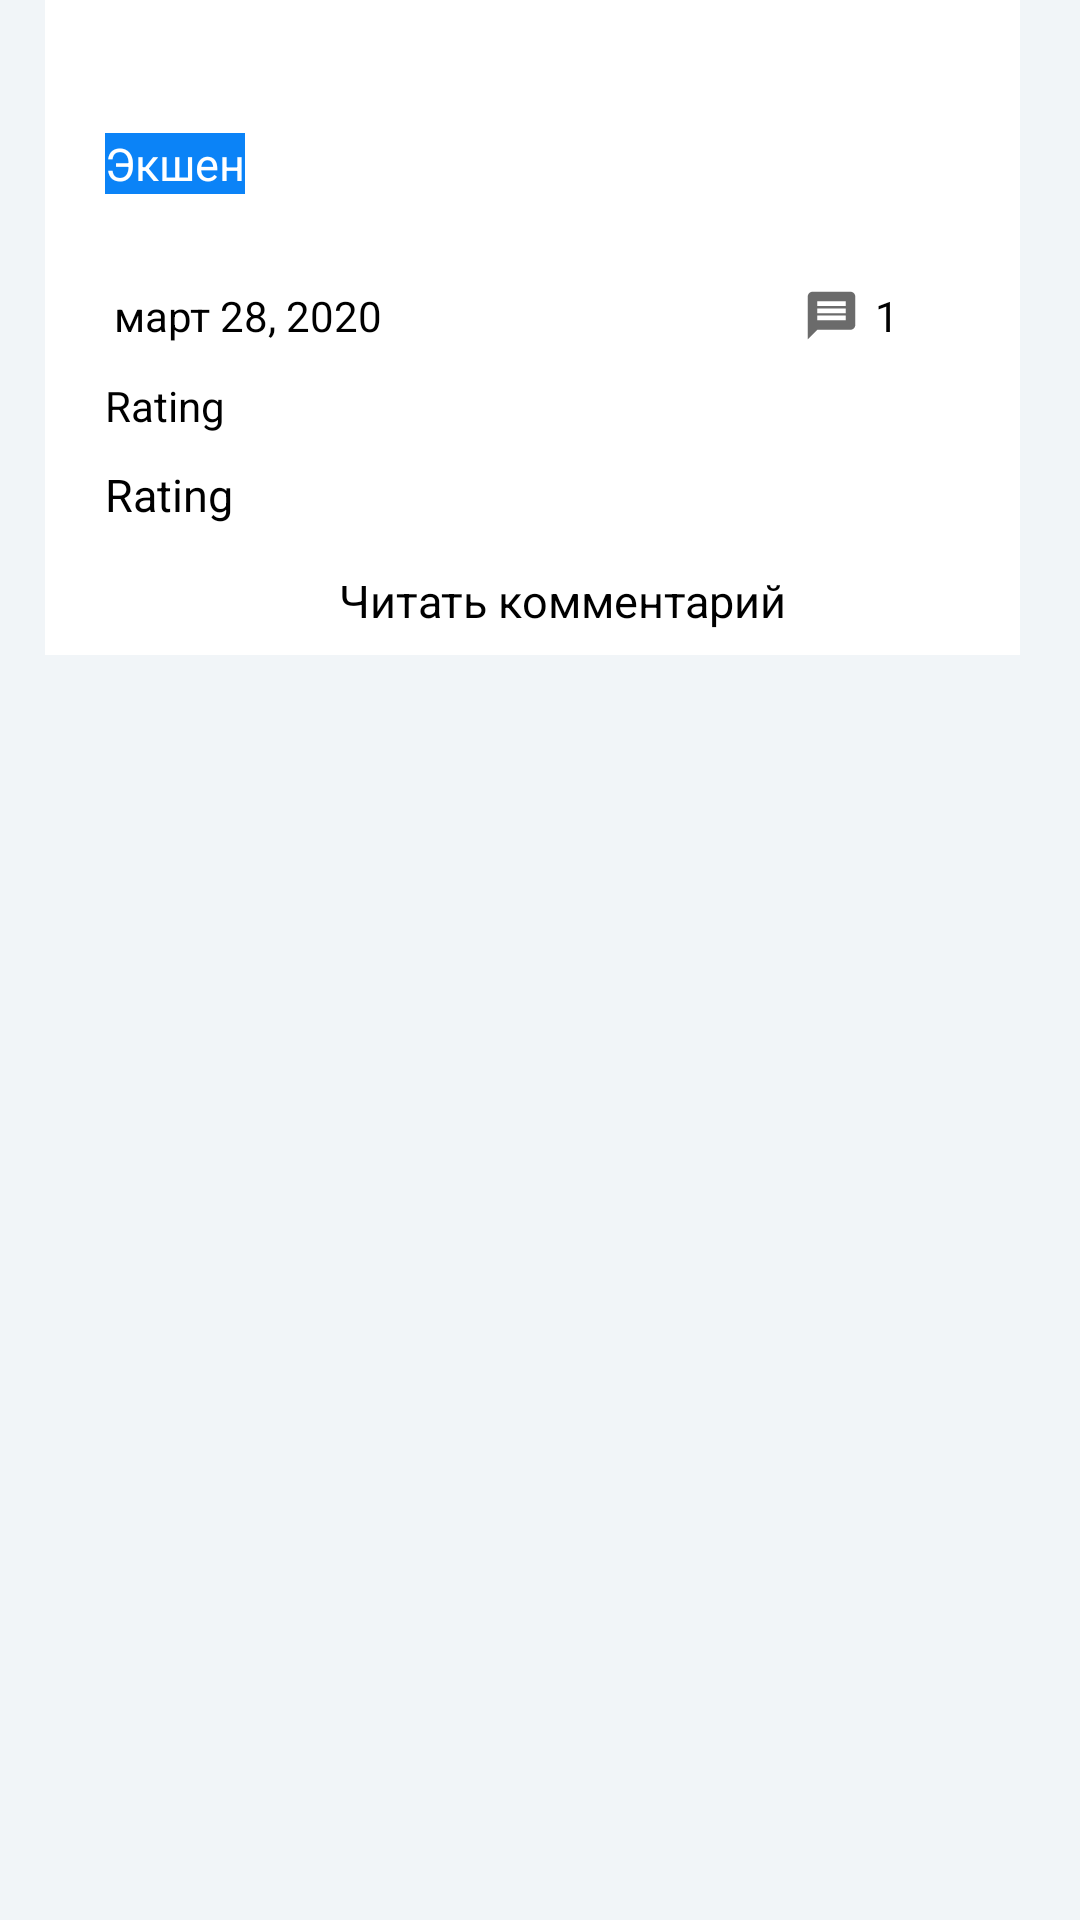

Named icons in this screenshot (1080 × 1920) and their bounding boxes, (x1, y1, x2, y2):
message: (807, 291, 856, 339)
